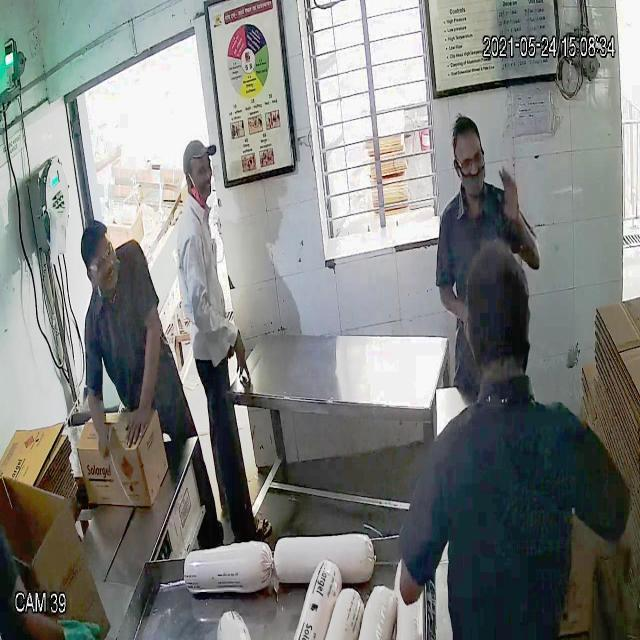glasses: (82, 233, 115, 279), (452, 141, 486, 179)
